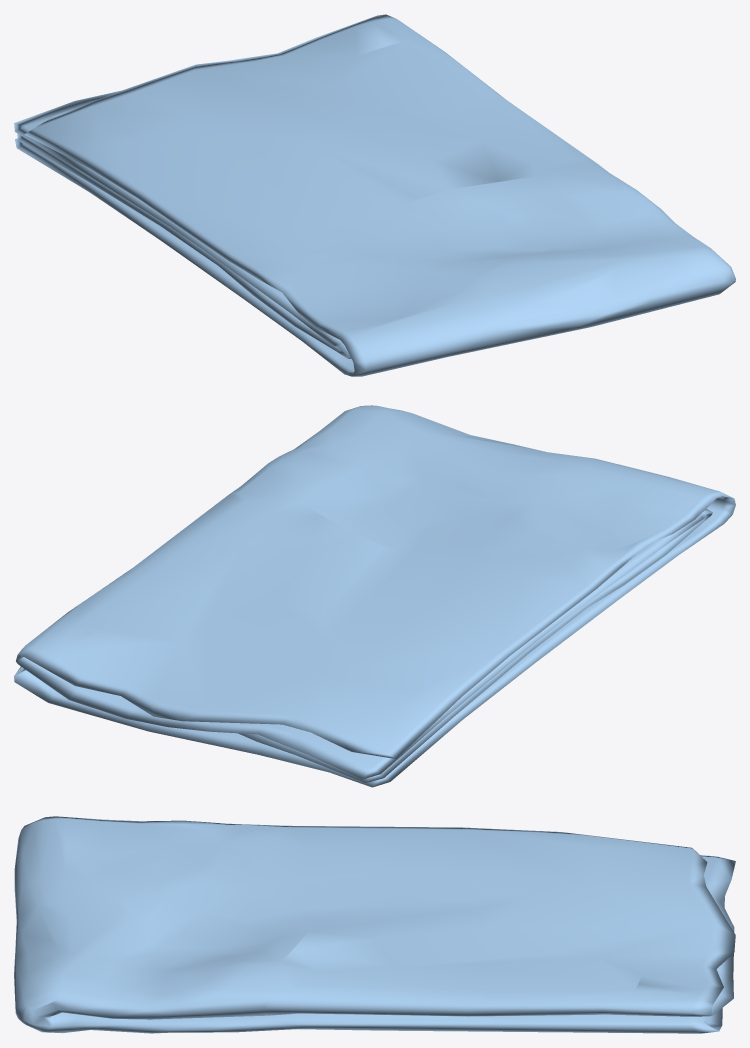
File: Clinic clothes 2.FBX
3 views of the same model, one above another, from view 1: azimuth 30°, elevation 25°; view 2: azimuth 150°, elevation 25°; view 3: azimuth 270°, elevation 25° (orthographic).
Parts seen in each view (by area): view 1: Clinic clothes 2; view 2: Clinic clothes 2; view 3: Clinic clothes 2.
Part boxes in pixels (x1,y1,x2,y2): Clinic clothes 2: (14, 14, 735, 376); Clinic clothes 2: (14, 405, 735, 787); Clinic clothes 2: (14, 816, 735, 1033).
Size of the model in its own units: 6.66 by 10.76 by 0.9129.
Materials: 1 (1 with a texture image).
